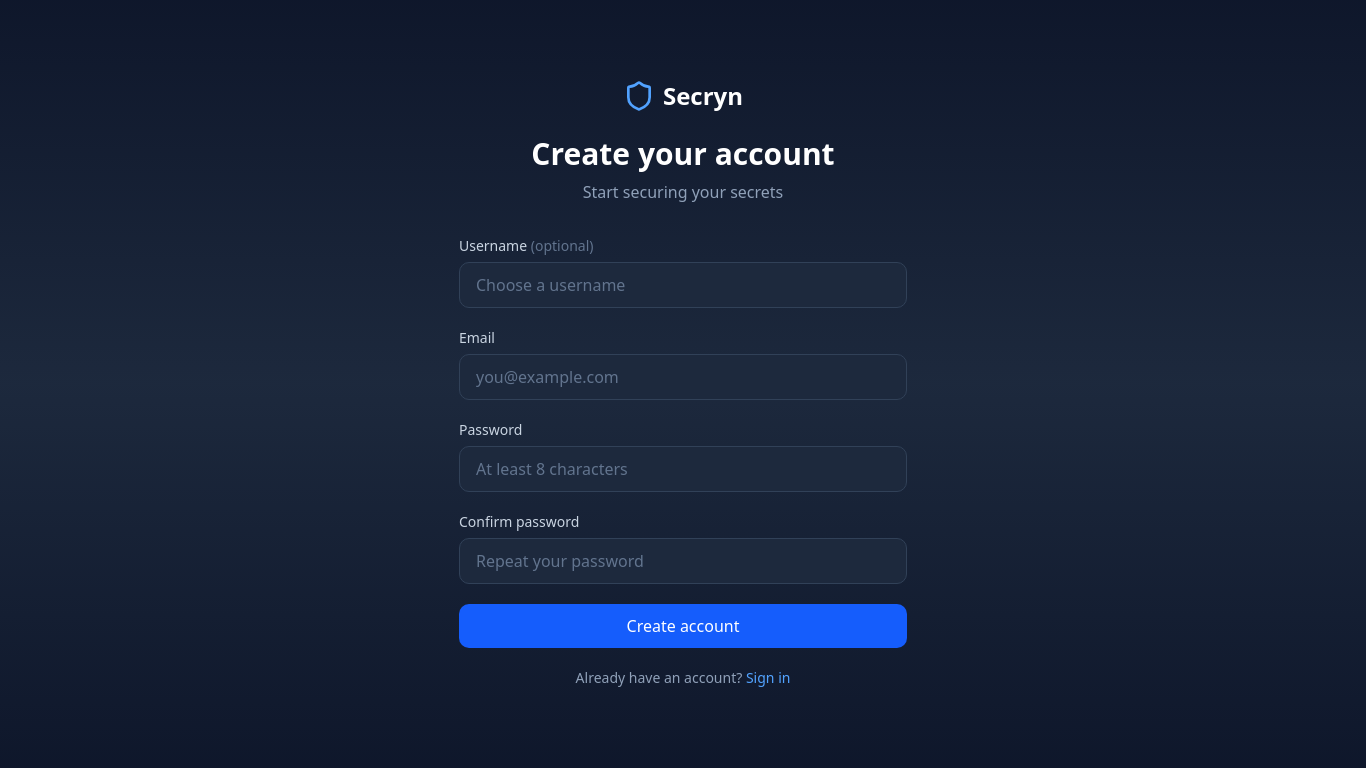
Test: RegisterPage › shows password mismatch error
In the field labelled "Email": (683, 377) top-left (459, 354), bottom-right (907, 400), type "test@test.com"
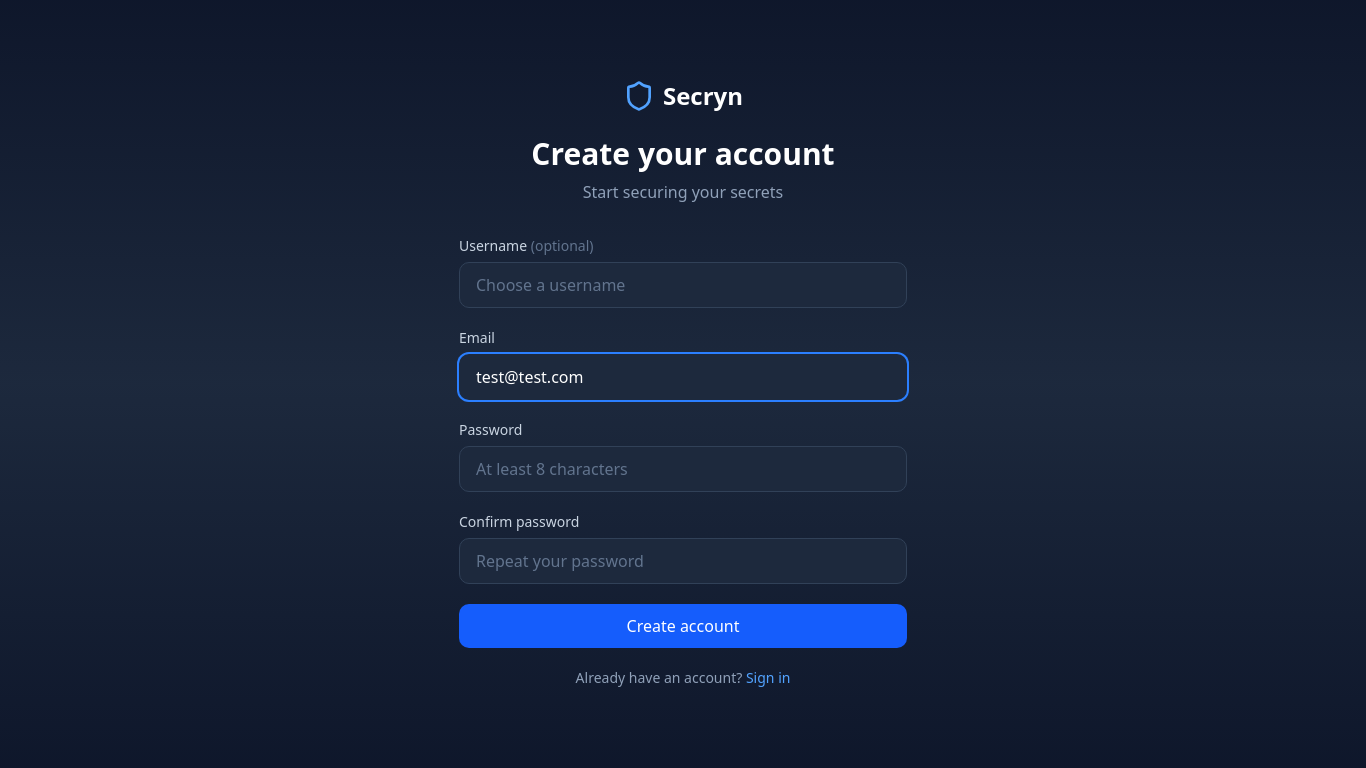
In the password field labelled "Password": (683, 469) top-left (459, 446), bottom-right (907, 492), type "password123"
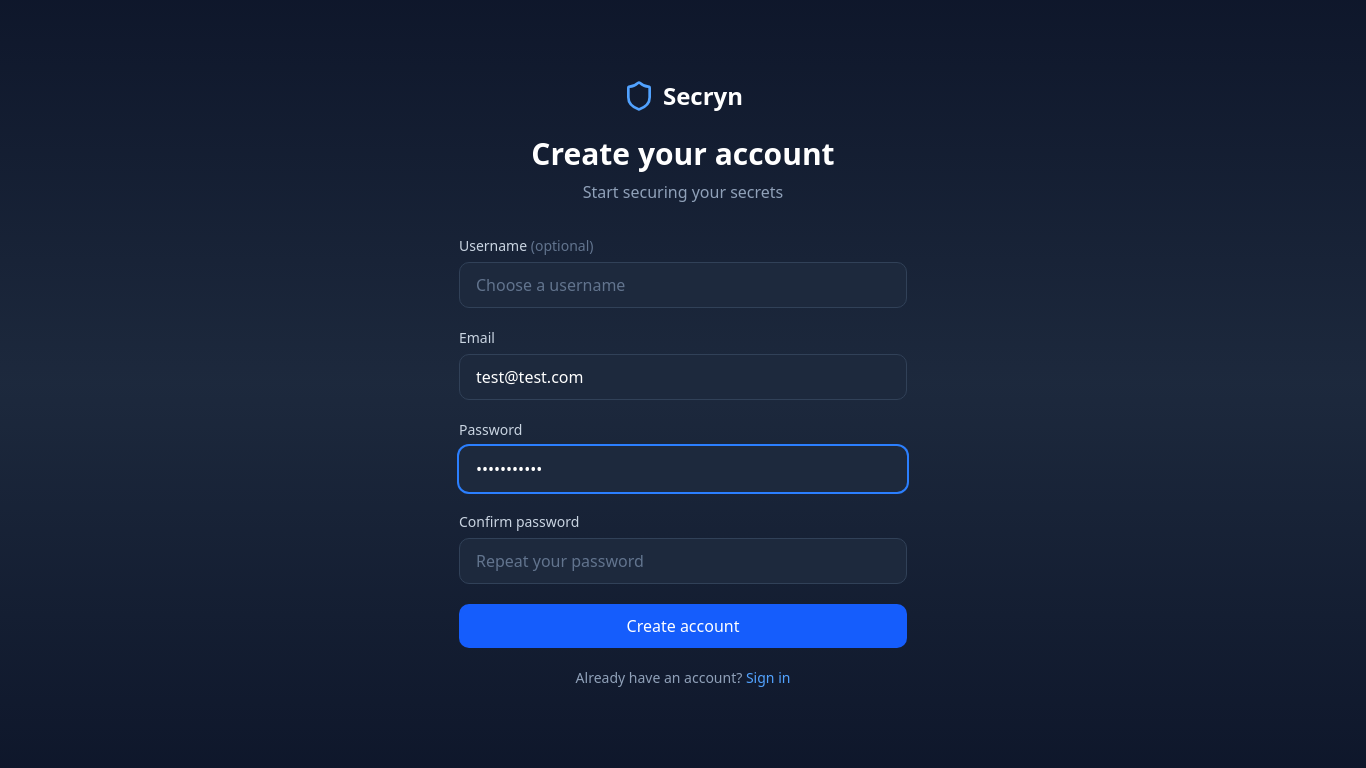
In the password field labelled "Confirm password": (683, 561) top-left (459, 538), bottom-right (907, 584), type "different123"
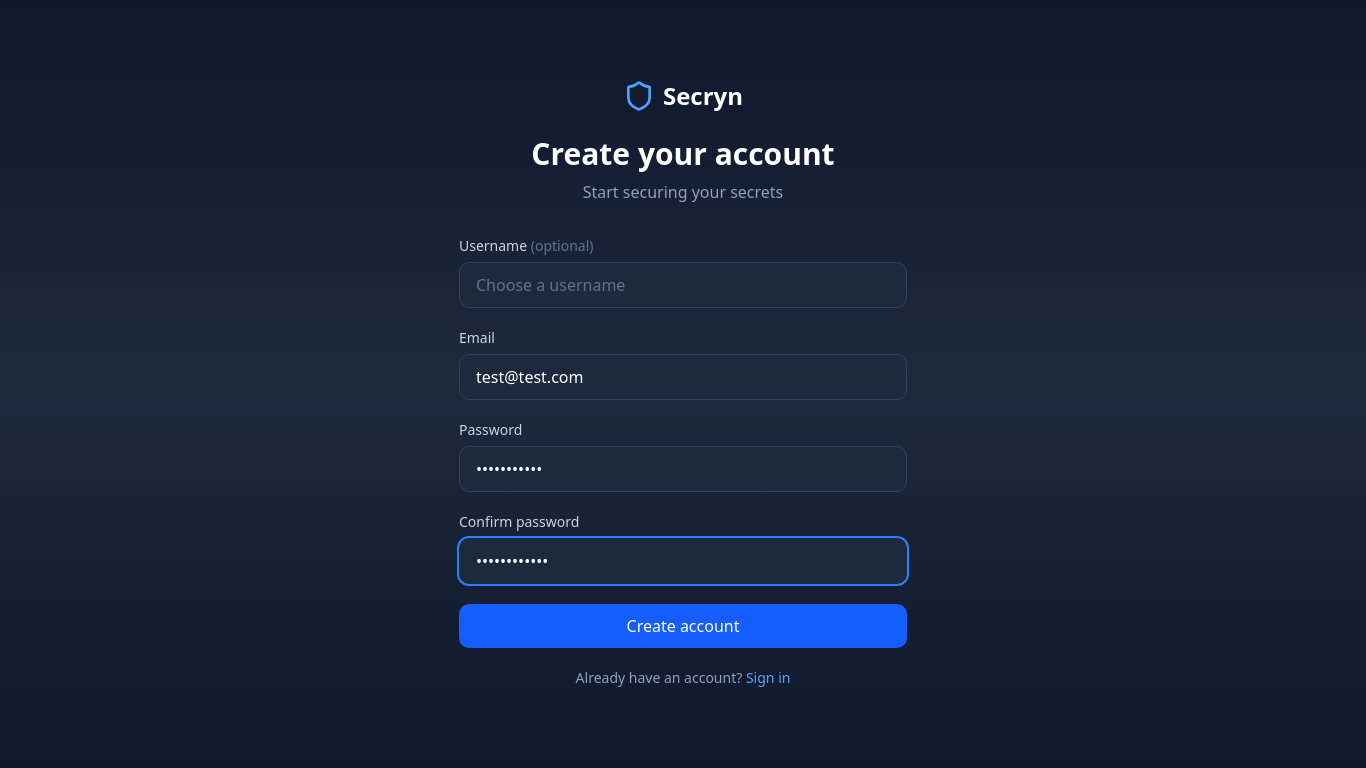
Click the button "Create account": (683, 626) top-left (459, 604), bottom-right (907, 648)
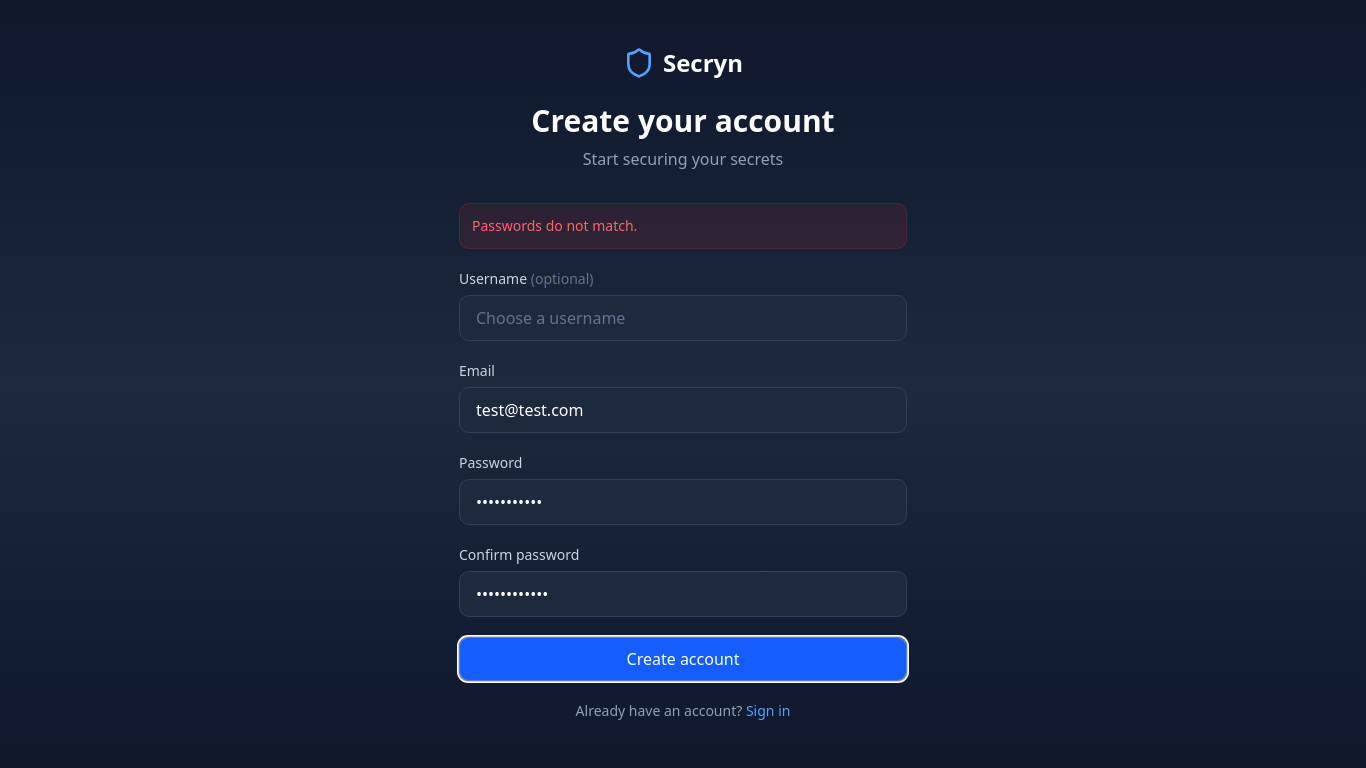
Expected: the text "Passwords do not match." is shown, top-left (459, 203), bottom-right (907, 249)
